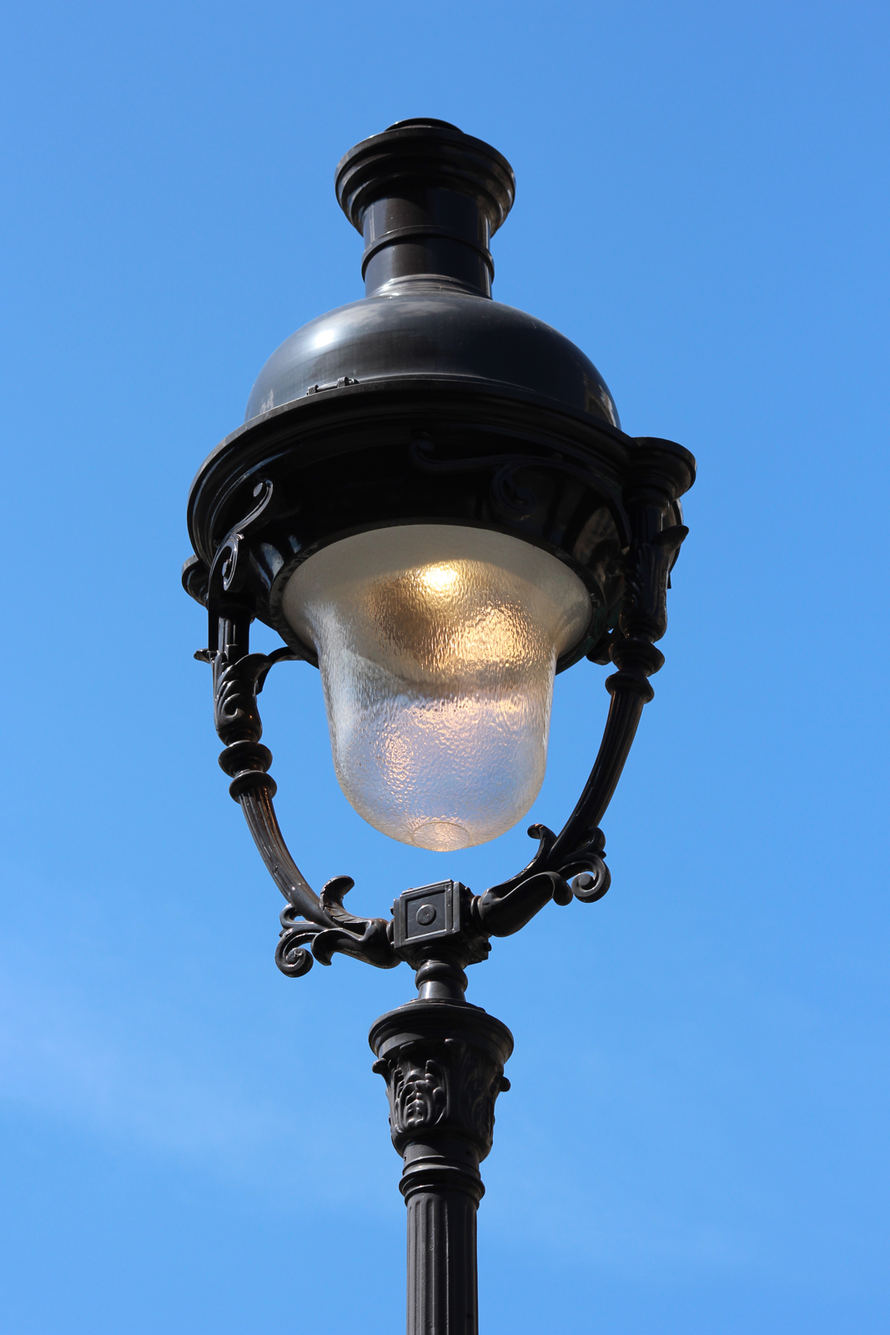poste: (158, 79, 705, 1335)
